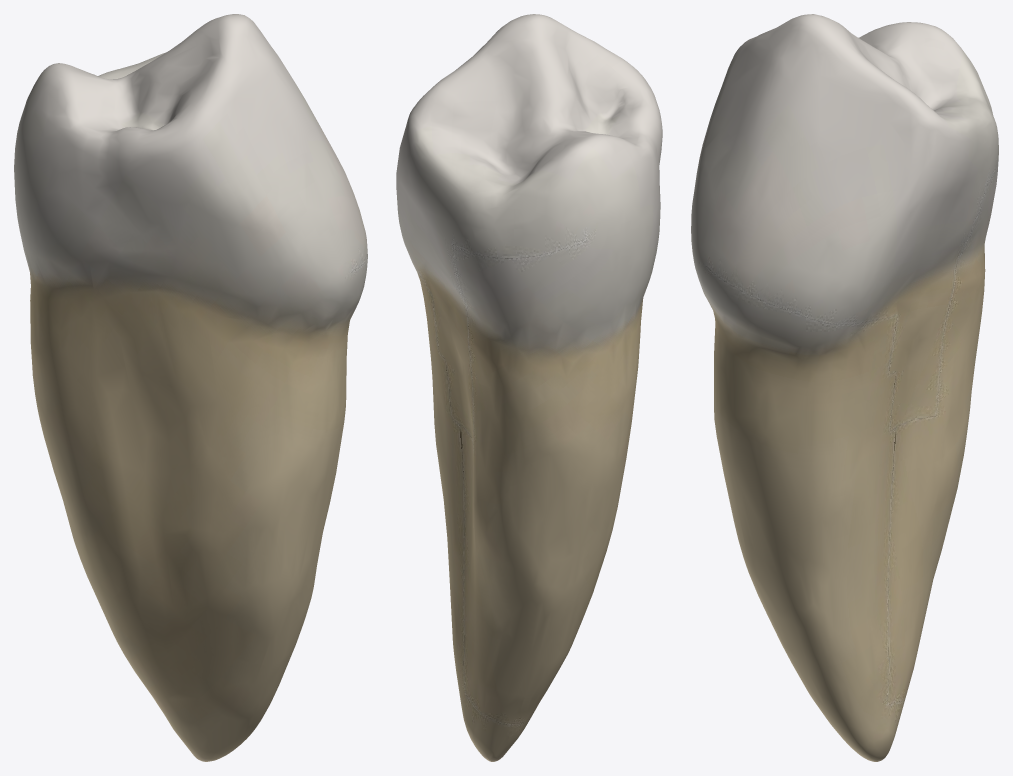
File: mandibular_first_premolar.glb
The picture shows the model from 3 angles, left to right: view 1: azimuth 30°, elevation 25°; view 2: azimuth 150°, elevation 25°; view 3: azimuth 270°, elevation 25°; orthographic projection. The views are drawn at different scales.
Parts seen in each view (by area): view 1: Object_2; view 2: Object_2; view 3: Object_2.
Boxes of the visible parts, x1=… form: Object_2: x1=14, y1=14, x2=367, y2=761; Object_2: x1=396, y1=14, x2=662, y2=761; Object_2: x1=691, y1=14, x2=998, y2=761.
Bounding box in the file's own units: 0.3399 × 0.8792 × 0.3317.
1 material, 1 textured.
